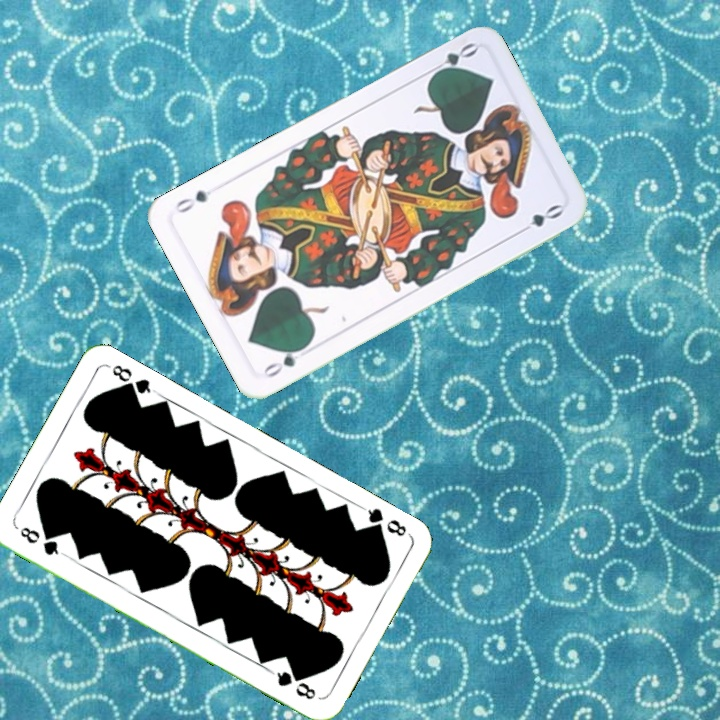G8: (358, 502, 412, 539), (15, 522, 67, 558)
GO: (424, 38, 480, 80), (258, 341, 310, 381)
